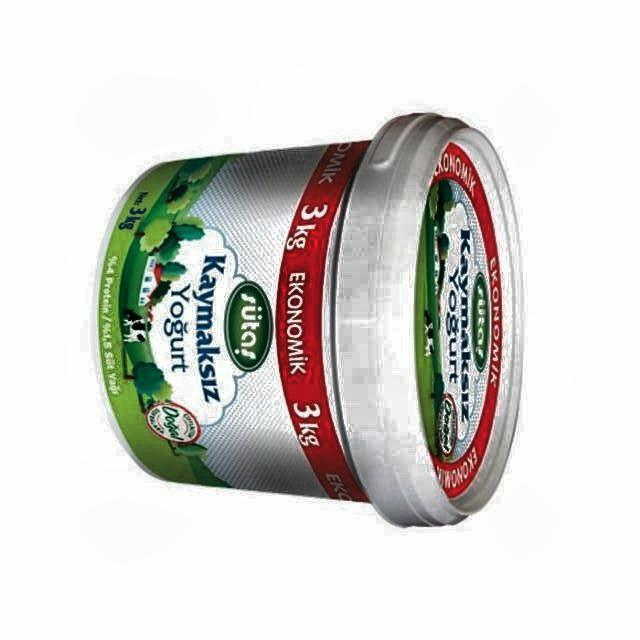plastic: (98, 115, 519, 524)
